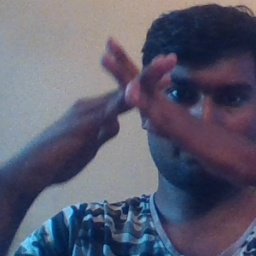W: (81, 33, 195, 159)
